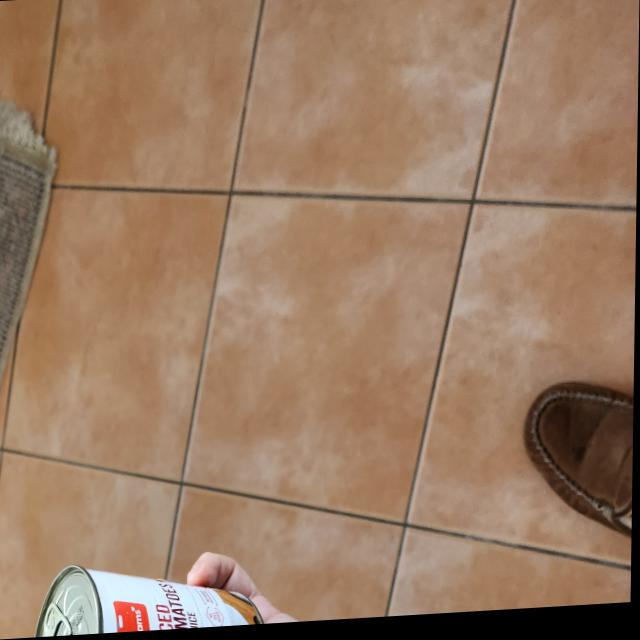tomato sauce: (31, 561, 269, 638)
